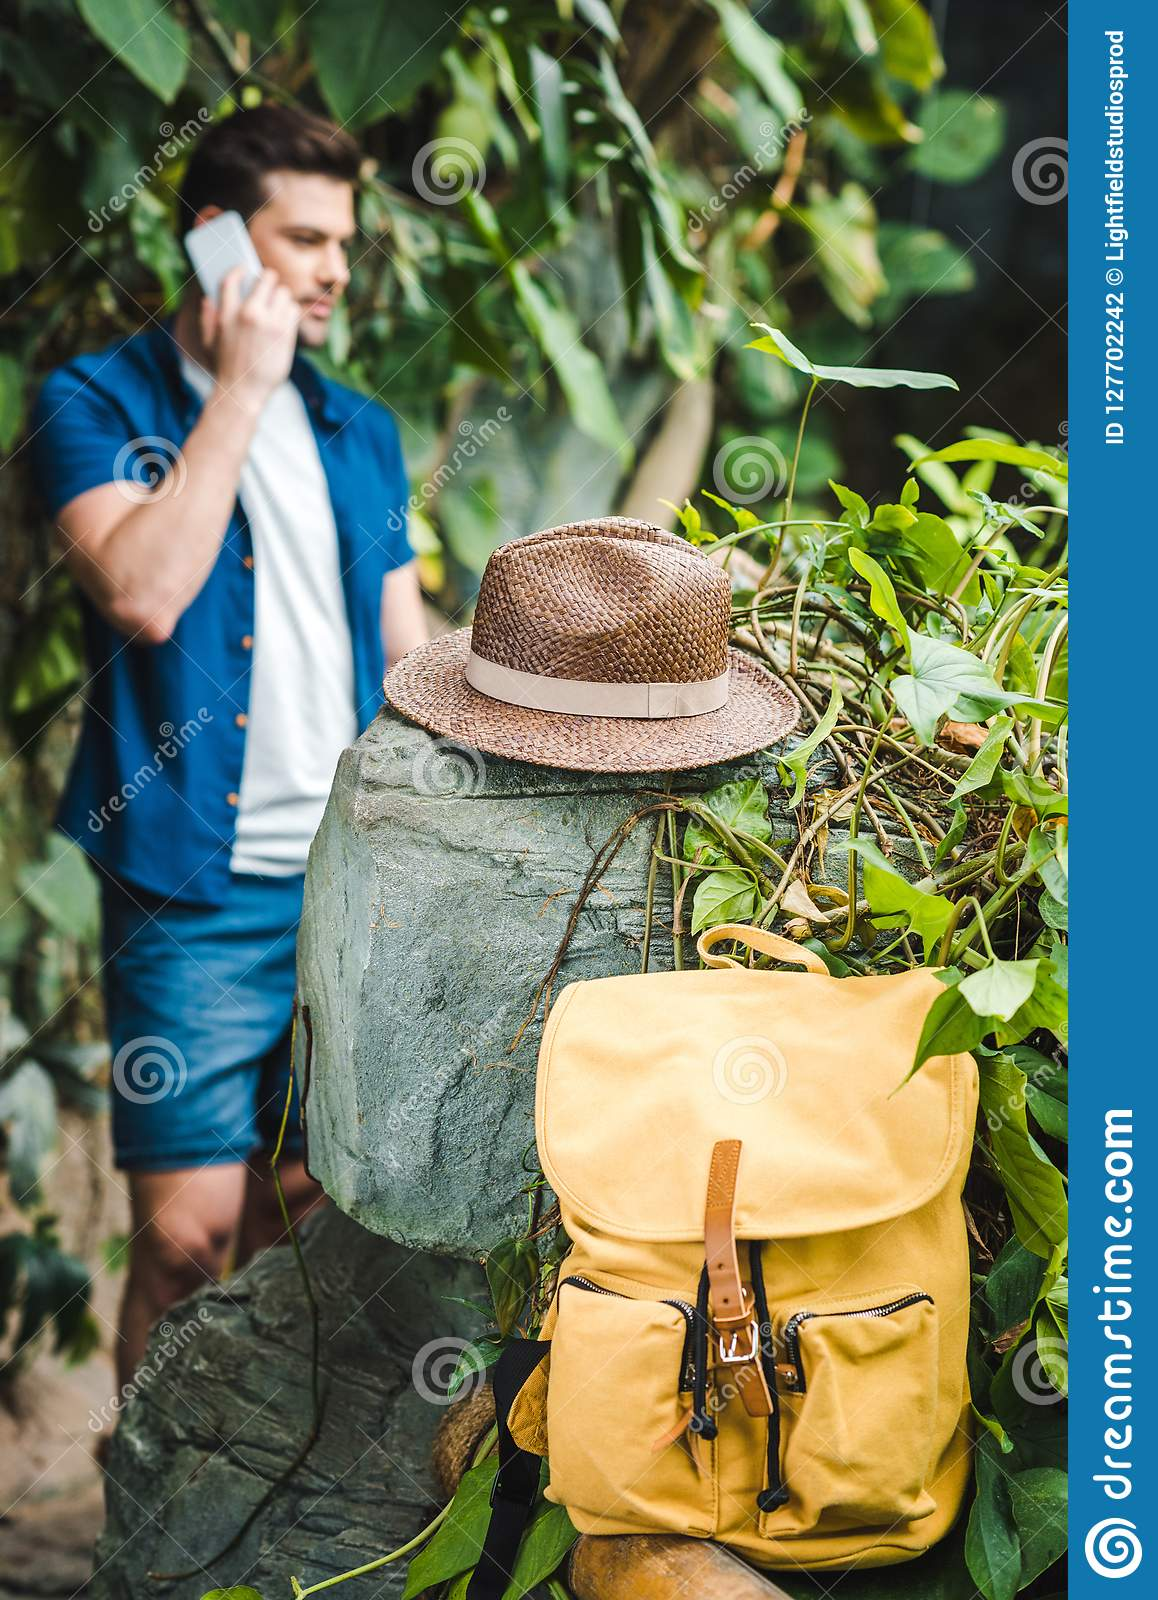phone: (185, 210, 268, 320)
talk: (183, 205, 359, 416)
